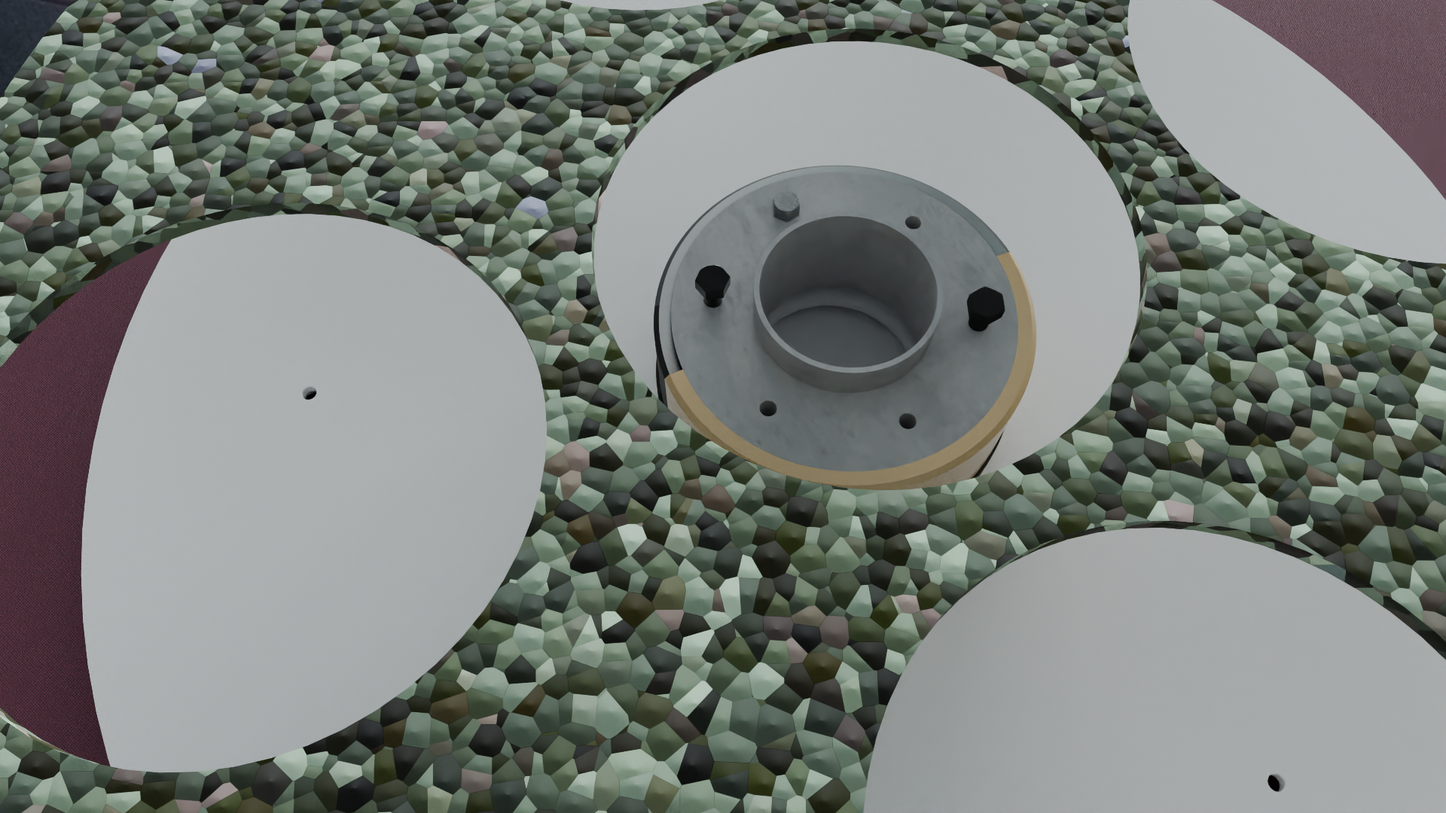bolt: (969, 286, 1005, 319), (695, 265, 731, 294), (773, 191, 800, 215)
